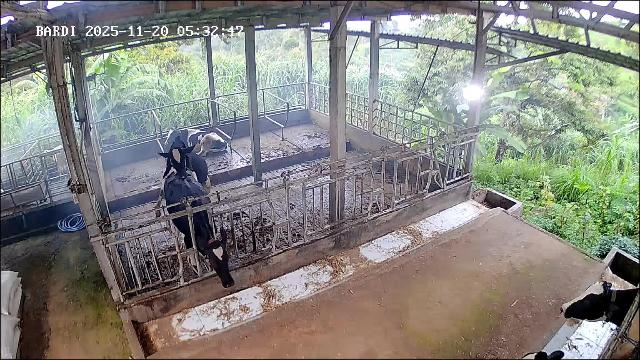mounting: (154, 141, 209, 212)
